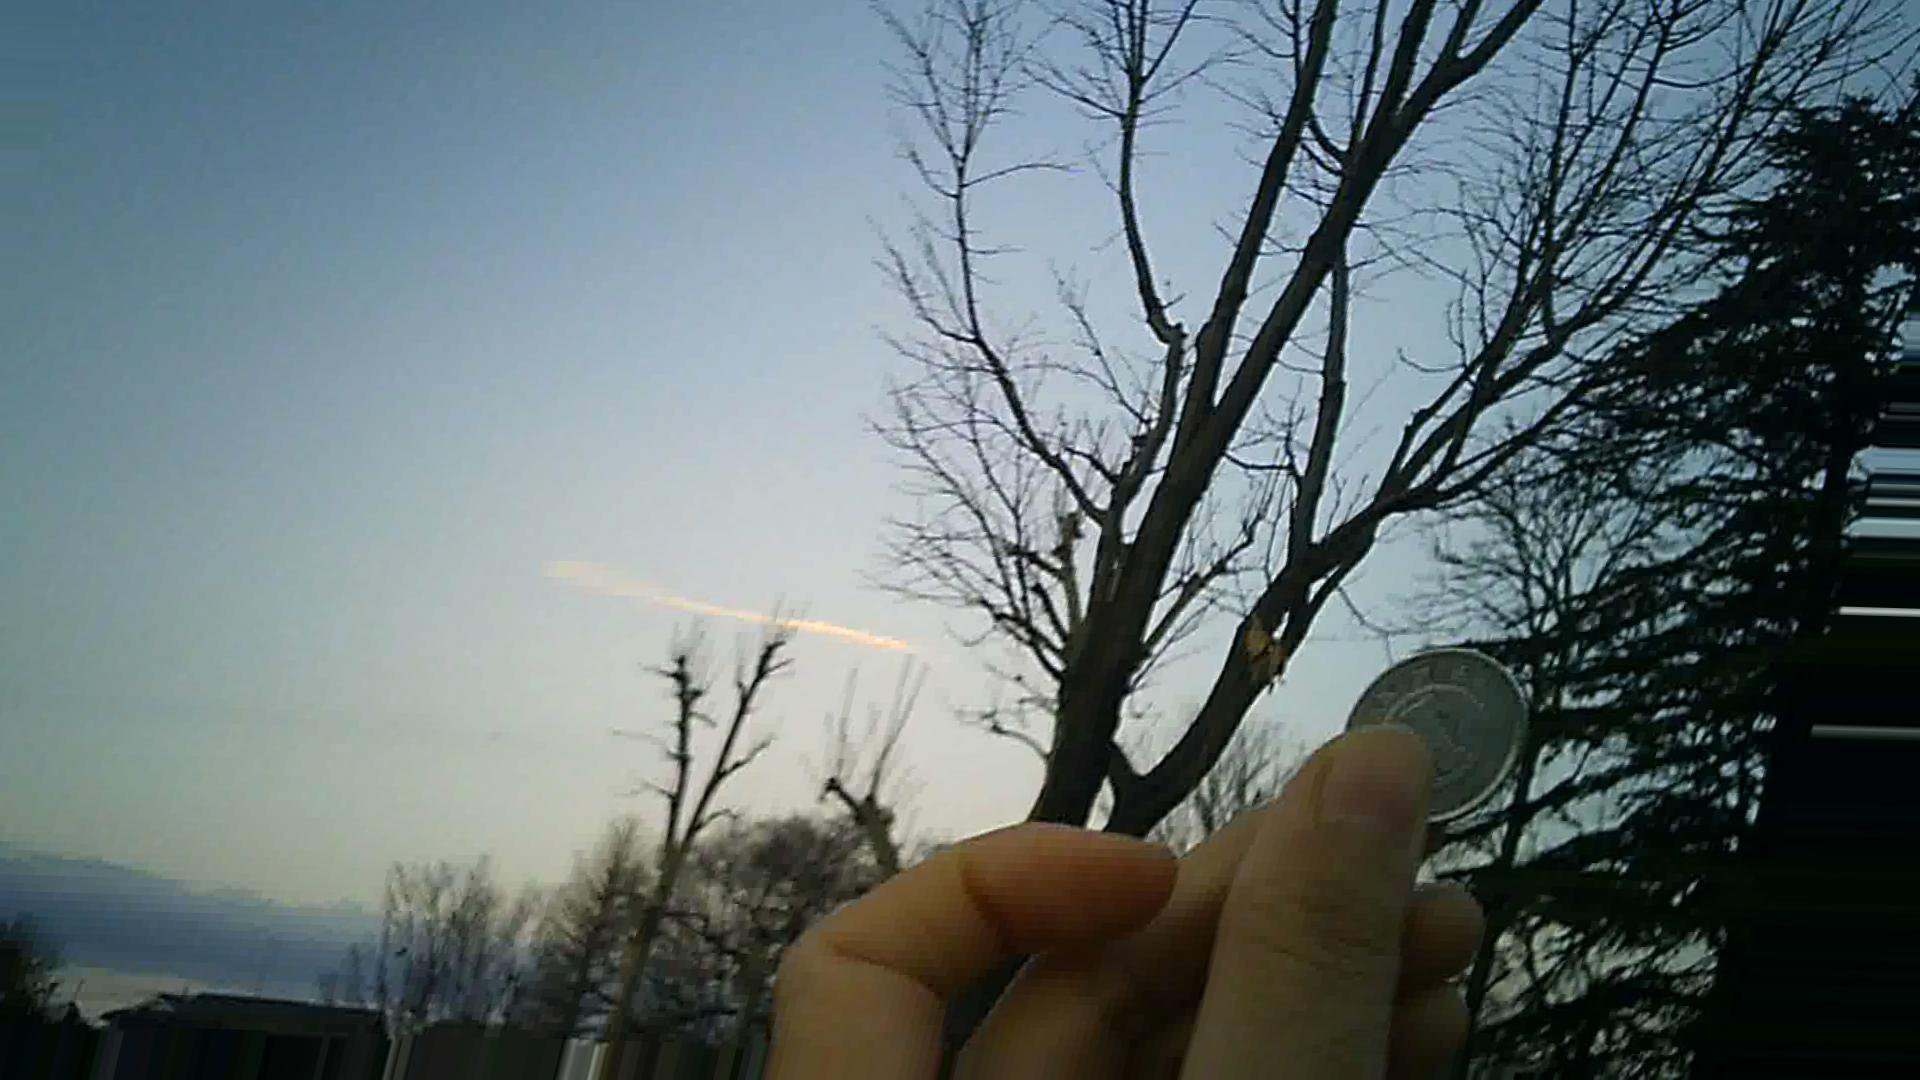1 Yen: (1342, 632, 1563, 843)
